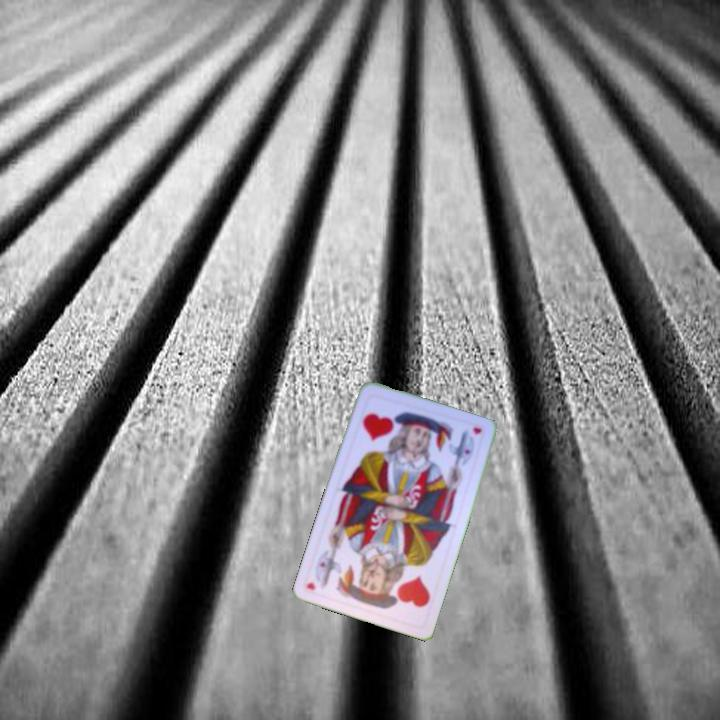h_j.png: (350, 390, 430, 464), (361, 555, 441, 629)
